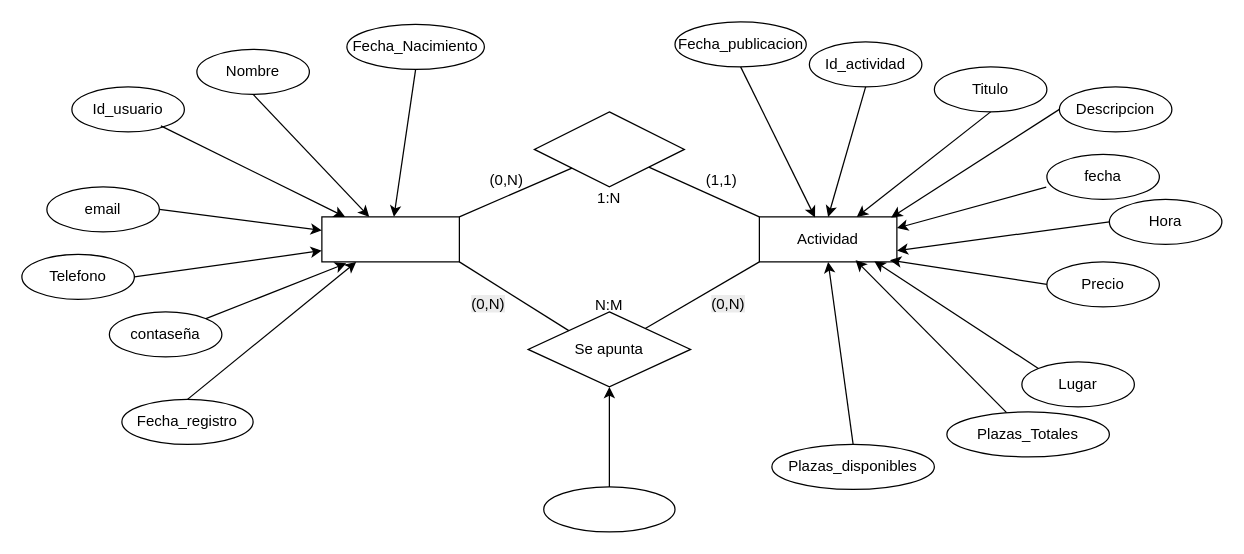
This 1244x554 diagram has some shape labels left out. The centre of each missing label's shape, as x and y in pixels:
"Fecha_inscripcion" belongs at pixel 608 509.
"Publica" belongs at pixel 608 149.
"Usuario" belongs at pixel 390 239.
